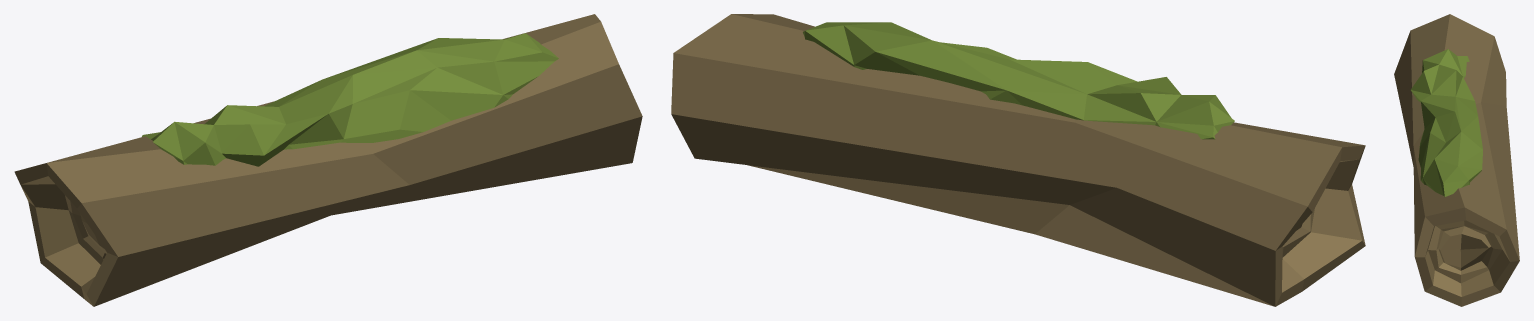
The model's file is Log_3.fbx.
The picture shows the model from 3 angles, left to right: view 1: azimuth 30°, elevation 25°; view 2: azimuth 150°, elevation 25°; view 3: azimuth 270°, elevation 25°; orthographic projection. The views are drawn at different scales.
Visible parts, largest first — view 1: Log_3; view 2: Log_3; view 3: Log_3.
Part boxes in pixels (x1,y1,x2,y2): Log_3: (14, 14, 642, 306); Log_3: (671, 14, 1365, 306); Log_3: (1394, 14, 1519, 306).
Size of the model in its own units: 299 by 77.44 by 79.91.
